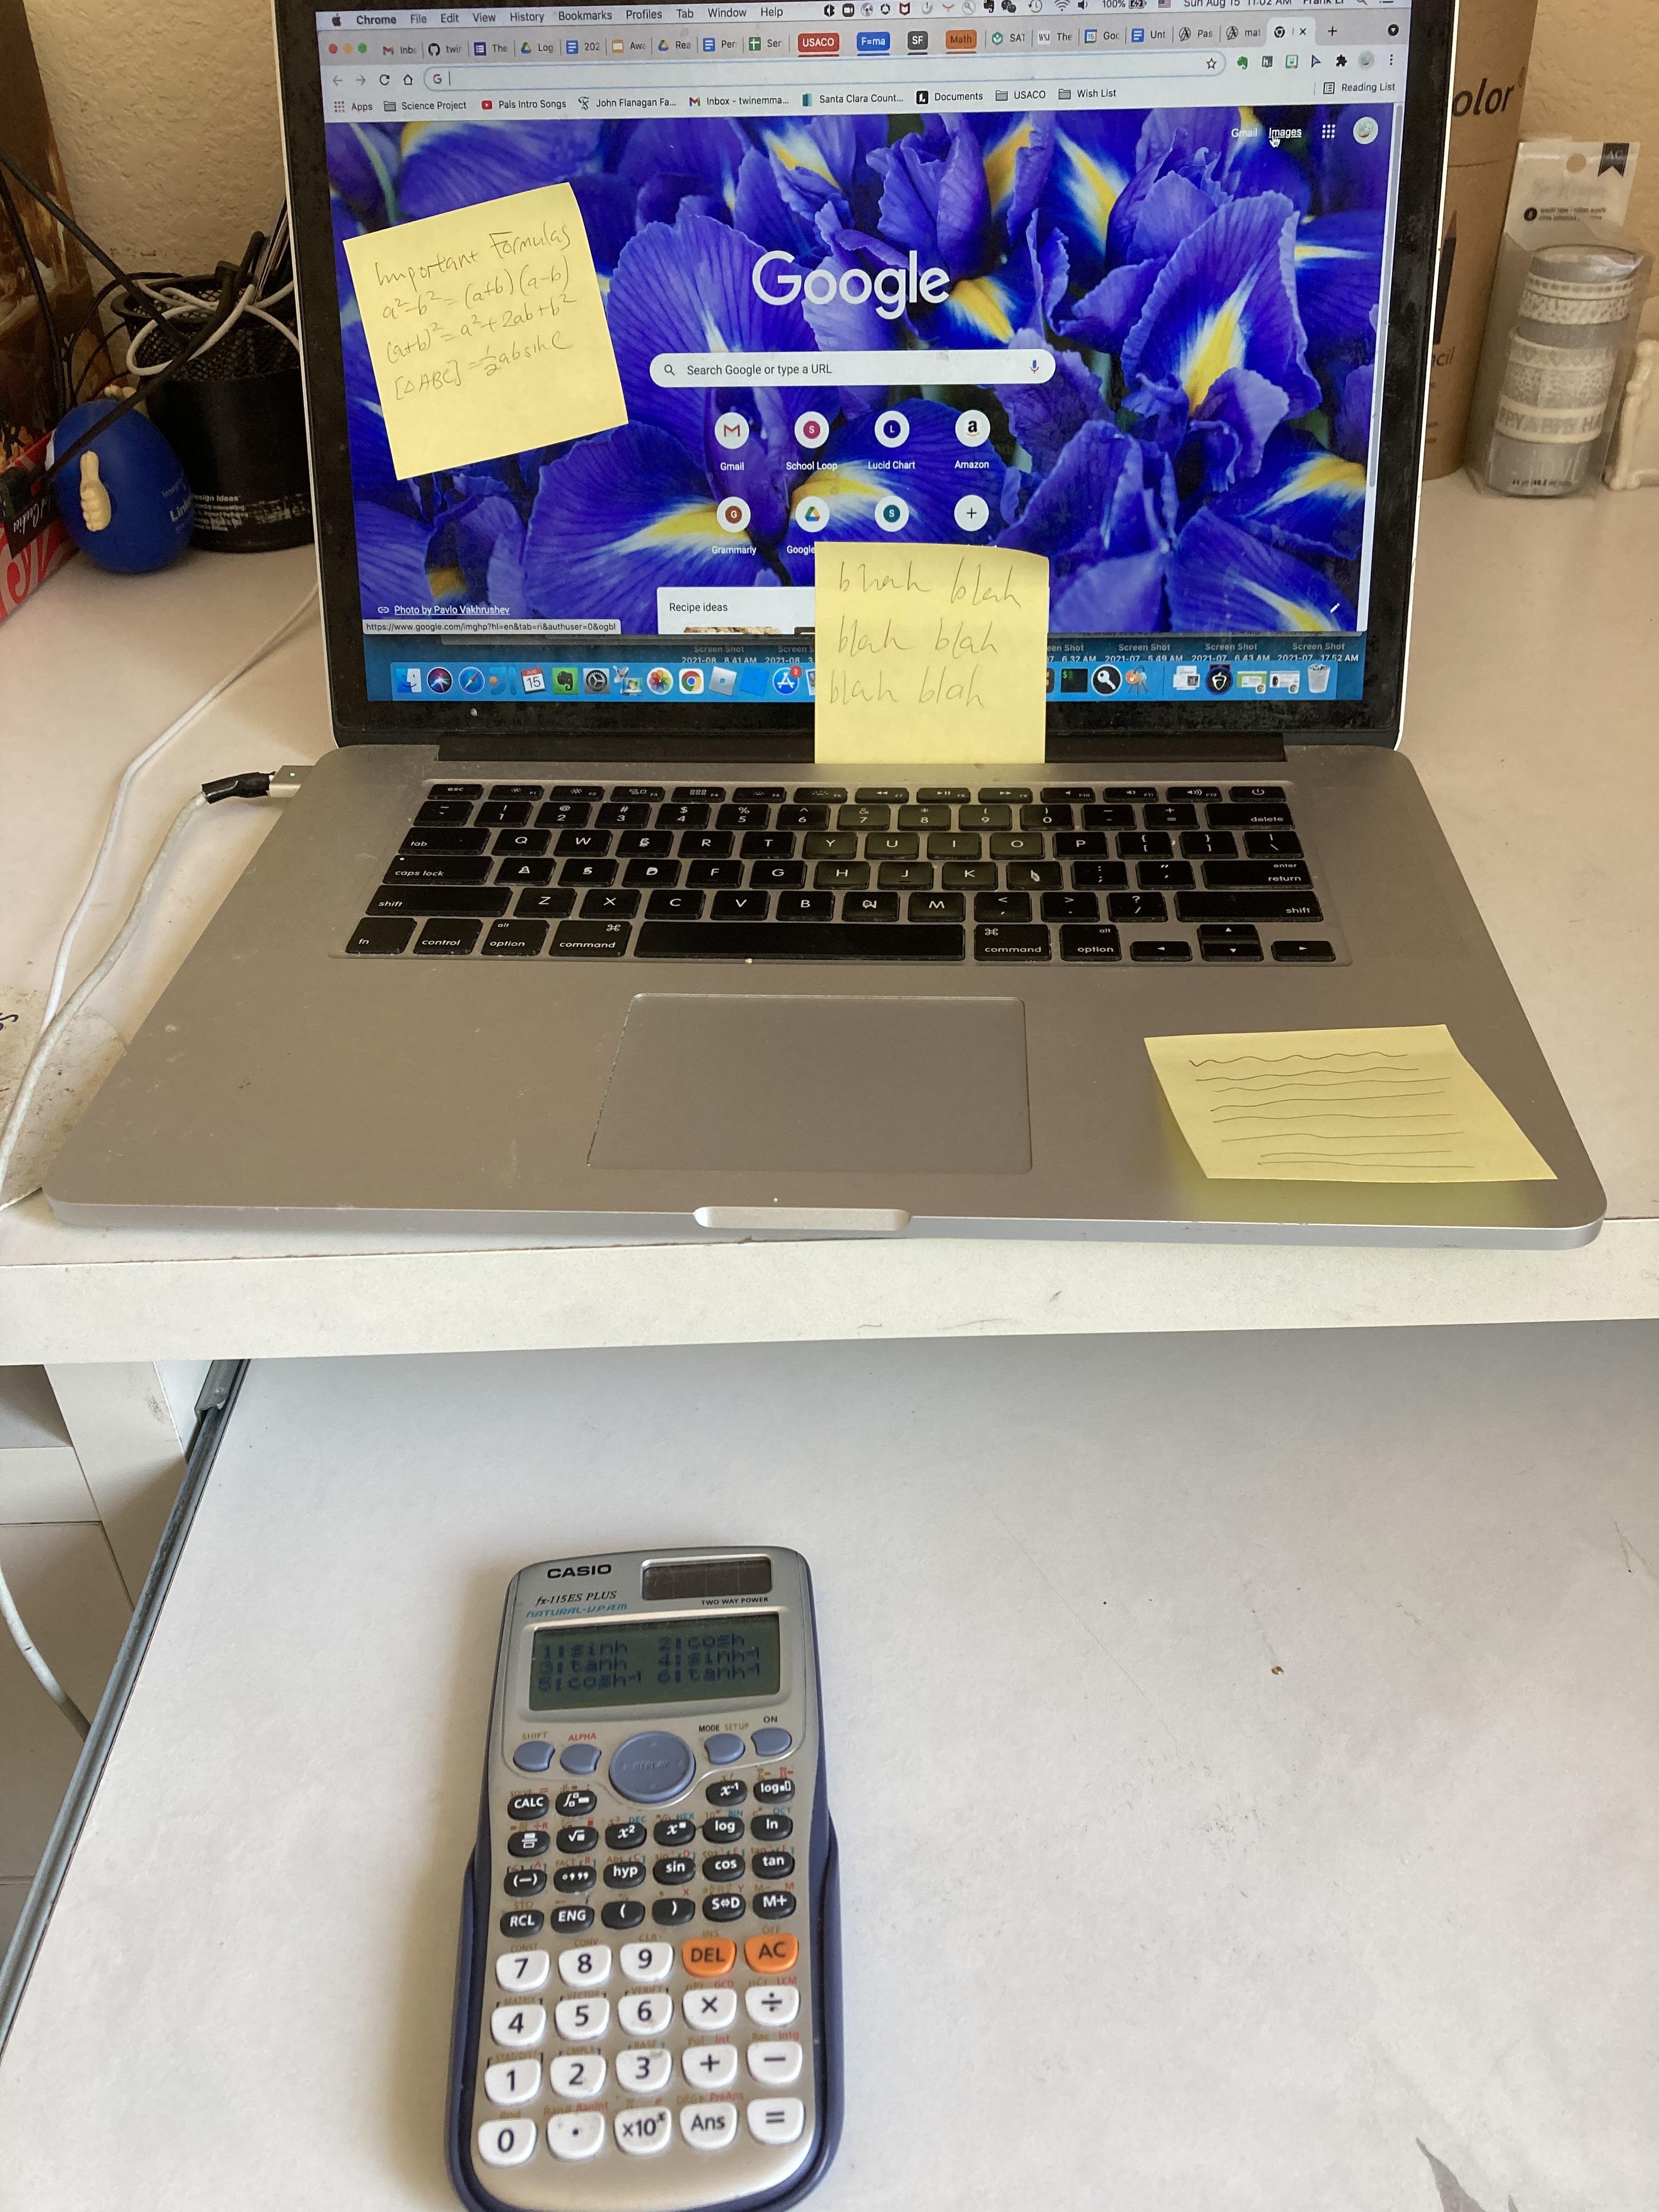Calculator: (483, 1554, 847, 2212)
Note: (345, 179, 640, 469), (1145, 1017, 1547, 1186), (812, 531, 1070, 770)
